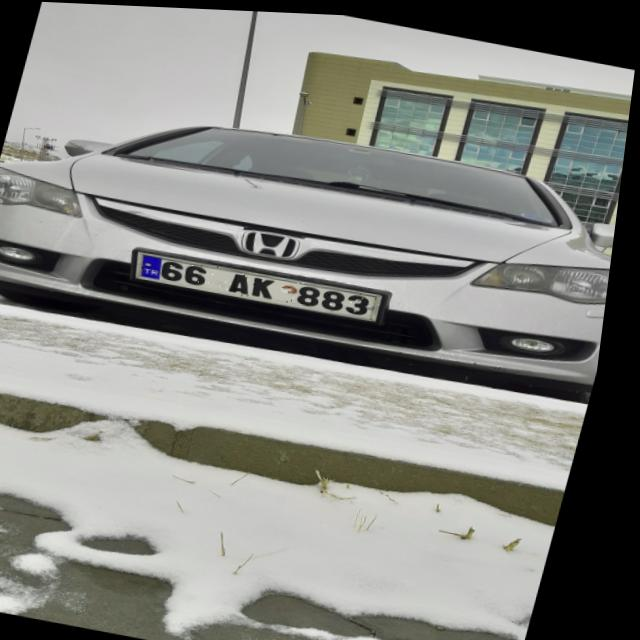license_plate: (141, 251, 388, 316)
